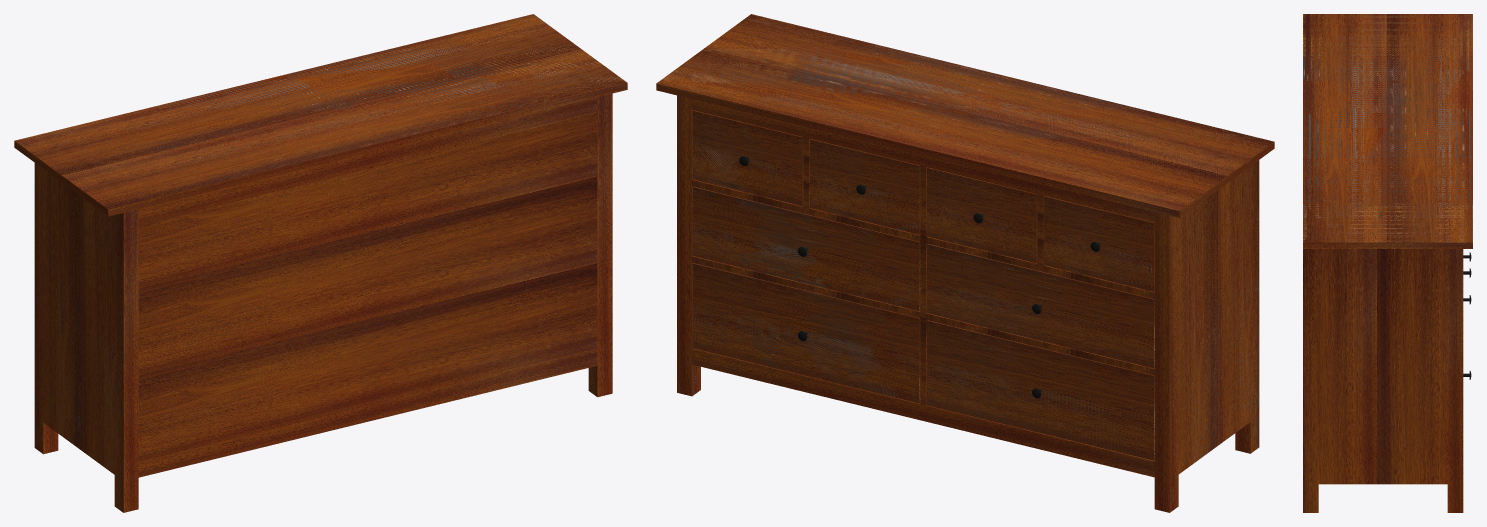
3 views of the same model, side by side, from view 1: azimuth 30°, elevation 25°; view 2: azimuth 150°, elevation 25°; view 3: azimuth 270°, elevation 25° (orthographic). The views are drawn at different scales.
Parts seen in each view (by area): view 1: mesh1_mesh1-geometry, mesh19_mesh19-geometry, mesh15_mesh15-geometry, mesh17_mesh17-geometry; view 2: mesh19_mesh19-geometry, mesh14_mesh14-geometry, mesh15_mesh15-geometry, mesh13_mesh13-geometry, mesh11_mesh11-geometry, mesh17_mesh17-geometry, mesh3_mesh3-geometry, mesh5_mesh5-geometry; view 3: mesh19_mesh19-geometry, mesh15_mesh15-geometry.
Part boxes in pixels (box(x1,y1,x2,y2)): mesh1_mesh1-geometry: box(138, 113, 597, 461); mesh19_mesh19-geometry: box(14, 14, 627, 216); mesh15_mesh15-geometry: box(34, 93, 612, 512); mesh17_mesh17-geometry: box(138, 97, 597, 477); mesh19_mesh19-geometry: box(656, 14, 1274, 217); mesh14_mesh14-geometry: box(692, 263, 1154, 460); mesh15_mesh15-geometry: box(677, 95, 1259, 512); mesh13_mesh13-geometry: box(692, 186, 1154, 368); mesh11_mesh11-geometry: box(692, 110, 1154, 291); mesh17_mesh17-geometry: box(692, 99, 1154, 477); mesh3_mesh3-geometry: box(692, 137, 1154, 405); mesh5_mesh5-geometry: box(739, 156, 1100, 398); mesh19_mesh19-geometry: box(1303, 14, 1472, 248); mesh15_mesh15-geometry: box(1303, 249, 1463, 512).
Size of the model in its own units: 0.8398 by 0.4746 by 0.2637.
